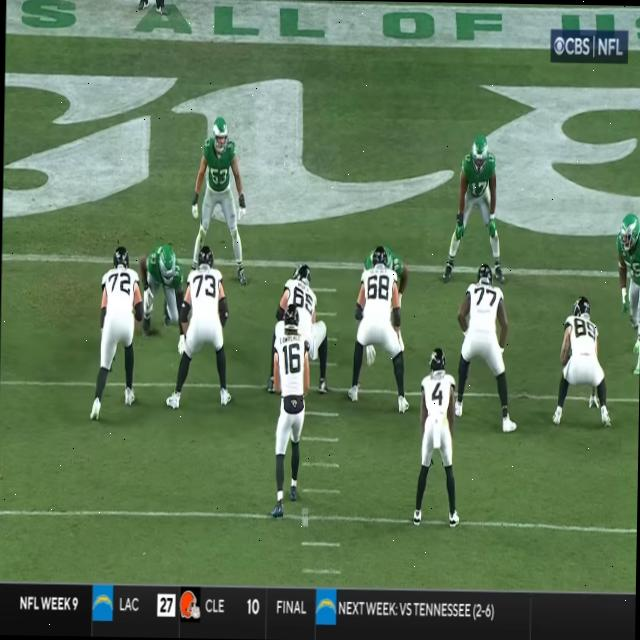Player: (92, 241, 142, 414), (181, 245, 230, 406), (462, 262, 509, 428), (420, 341, 460, 525), (274, 304, 306, 522), (357, 248, 402, 401), (560, 298, 612, 425), (455, 138, 502, 272), (198, 120, 244, 246), (611, 217, 640, 378), (288, 252, 326, 361), (140, 240, 182, 333)
